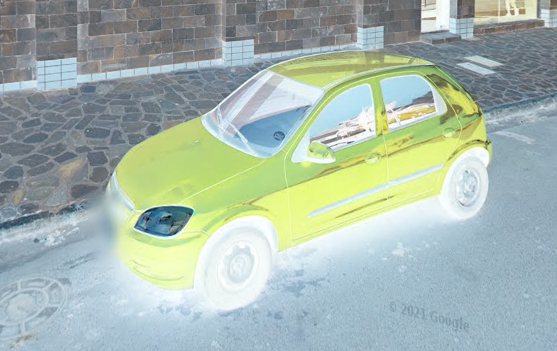car: (101, 45, 493, 313)
